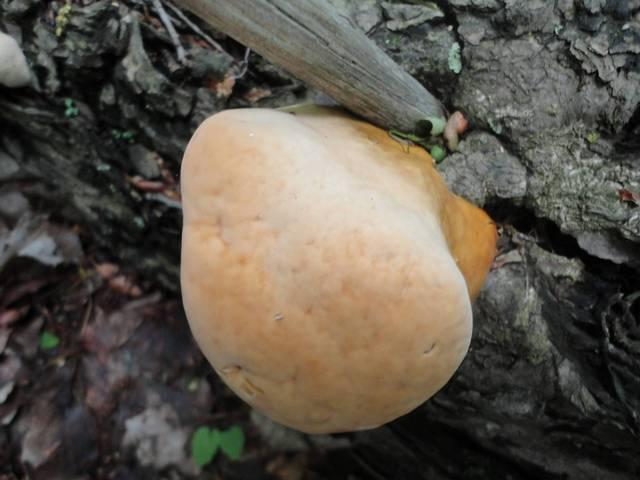poisonous_mushroom: (177, 100, 499, 435)
